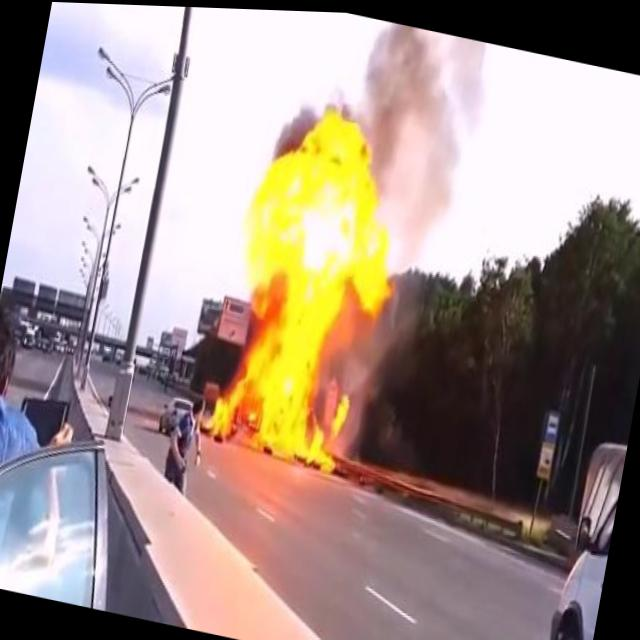fire: (196, 77, 424, 488)
